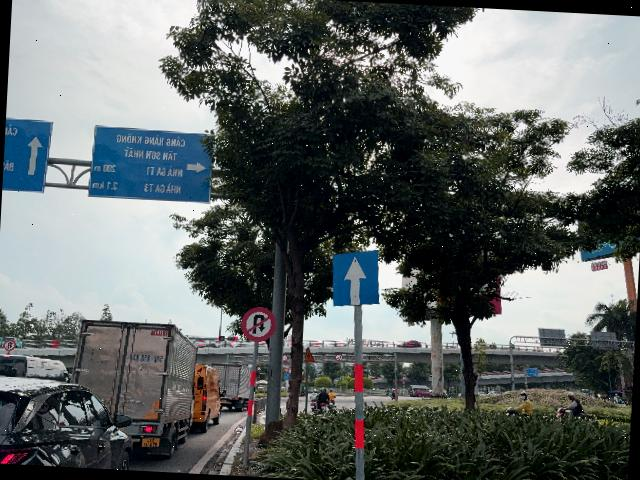cam-quay-dau-xe: (240, 306, 278, 344)
duong-mot-chieu: (331, 248, 383, 310)
